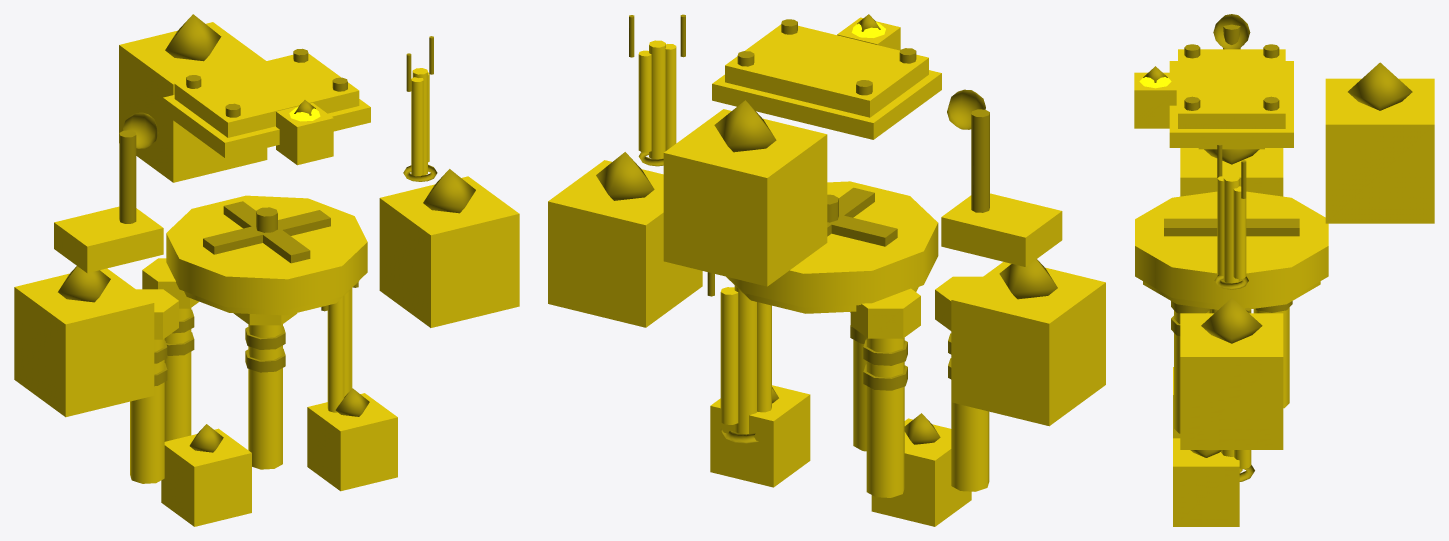
The model's file is golem_069.glb.
The picture shows the model from 3 angles, left to right: view 1: azimuth 30°, elevation 25°; view 2: azimuth 150°, elevation 25°; view 3: azimuth 270°, elevation 25°; orthographic projection. The views are drawn at different scales.
Visible parts, largest first — view 1: Body, Detail; view 2: Body, Detail; view 3: Body, Detail.
Boxes of the visible parts, x1,y1,x2,y2 form: Body: (14, 22, 519, 526); Detail: (58, 14, 475, 452); Body: (548, 17, 1105, 526); Detail: (596, 14, 1057, 444); Body: (1134, 49, 1434, 526); Detail: (1143, 14, 1412, 481).
Bounding box in the file's own units: 1.17 × 1.02 × 0.6661.
